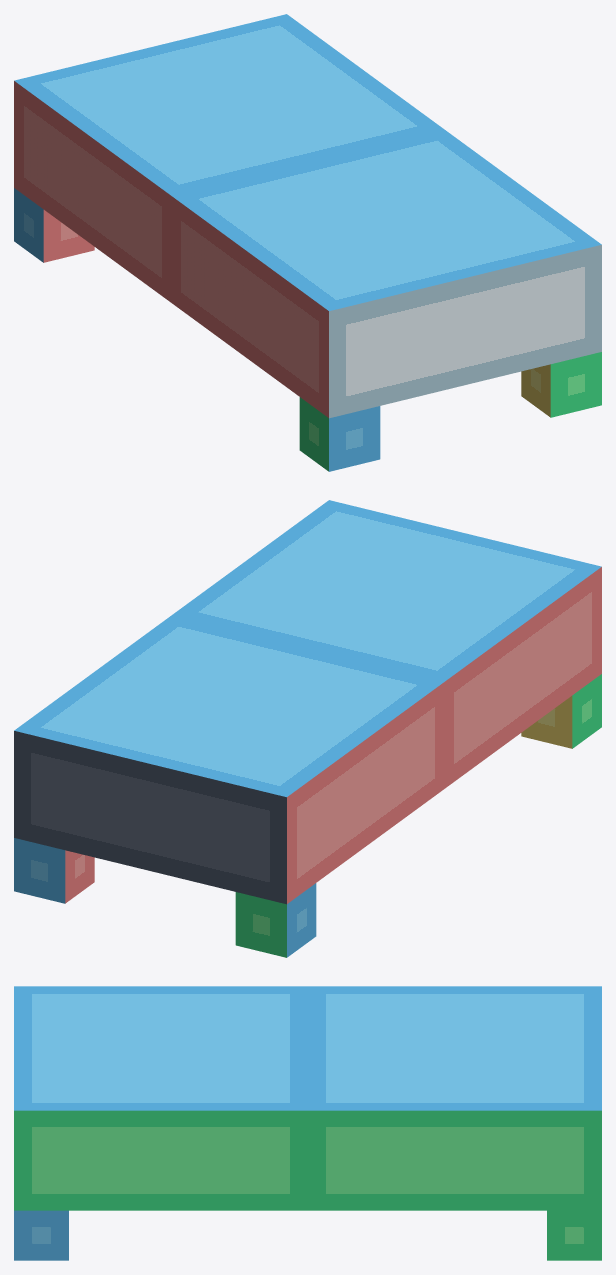
The model's file is bed_model.gltf.
The picture shows the model from 3 angles, top to bottom: view 1: azimuth 30°, elevation 25°; view 2: azimuth 150°, elevation 25°; view 3: azimuth 270°, elevation 25°; orthographic projection. The views are drawn at different scales.
Visible parts, largest first — view 1: bed (×2), leg3, leg1, leg2; view 2: bed (×2), leg2, leg0, leg3; view 3: bed (×2), leg0, leg1.
Boxes of the visible parts, box(x1,y1,x2,y2) form: bed (×2): box(14, 14, 601, 418); leg3: box(299, 397, 380, 471); leg1: box(521, 352, 601, 417); leg2: box(14, 188, 94, 262); bed (×2): box(14, 500, 601, 904); leg2: box(235, 883, 316, 957); leg0: box(14, 838, 94, 903); leg3: box(521, 674, 601, 748); bed (×2): box(14, 986, 601, 1210); leg0: box(547, 1210, 601, 1260); leg1: box(14, 1210, 68, 1260).
Size of the model in its own units: 1 by 0.5625 by 2.
Materials: 1 (1 with a texture image).
